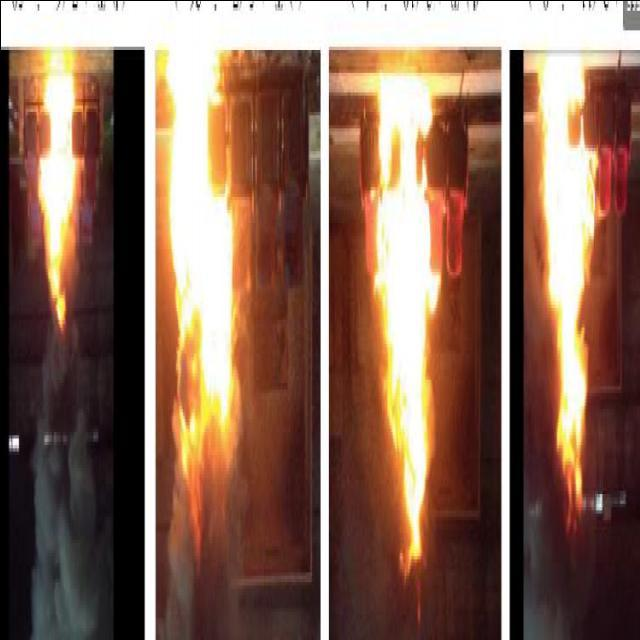Fire: (372, 70, 439, 590), (536, 52, 594, 536), (165, 56, 231, 473), (36, 64, 74, 332)
